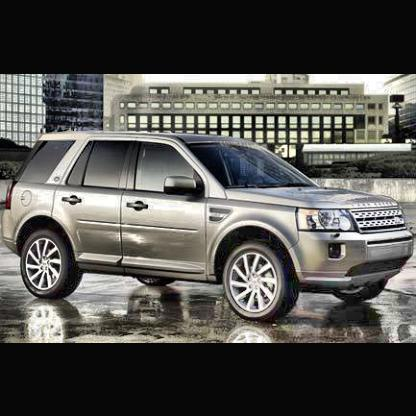Land Rover LR2 SUV 2012: (3, 131, 413, 326)
